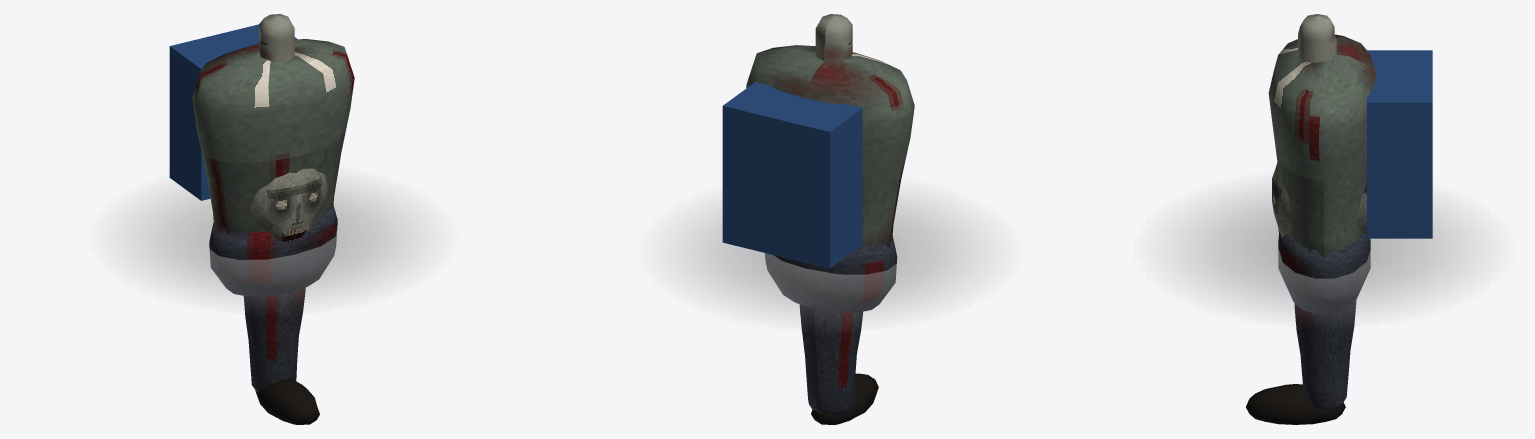
3 renders of one model, left to right at view 1: azimuth 30°, elevation 25°; view 2: azimuth 150°, elevation 25°; view 3: azimuth 270°, elevation 25°, orthographic. The views are drawn at different scales.
Parts seen in each view (by area): view 1: root__x__11, spine__x__1, core__x__0, spine__x__3, legL1__x__12, head__h__4, legL2__x__14, spine__x__2; view 2: spine__x__3, root__x__11, spine__x__1, core__x__0, legL1__x__12, spine__x__2, legL2__x__14; view 3: root__x__11, spine__x__1, spine__x__3, core__x__0, legL1__x__12, legL2__x__14, spine__x__2, head__h__4.
Boxes of the visible parts, x1=… form: root__x__11: x1=114, y1=176, x2=432, y2=305; spine__x__1: x1=192, y1=39, x2=354, y2=233; core__x__0: x1=209, y1=205, x2=337, y2=296; spine__x__3: x1=169, y1=24, x2=297, y2=200; legL1__x__12: x1=243, y1=288, x2=305, y2=391; head__h__4: x1=250, y1=168, x2=327, y2=242; legL2__x__14: x1=255, y1=378, x2=319, y2=424; spine__x__2: x1=259, y1=14, x2=294, y2=62; spine__x__3: x1=722, y1=82, x2=862, y2=268; root__x__11: x1=665, y1=189, x2=995, y2=321; spine__x__1: x1=746, y1=45, x2=914, y2=247; core__x__0: x1=765, y1=235, x2=897, y2=312; legL1__x__12: x1=799, y1=304, x2=863, y2=415; spine__x__2: x1=815, y1=14, x2=852, y2=61; legL2__x__14: x1=811, y1=373, x2=878, y2=424; root__x__11: x1=1159, y1=183, x2=1489, y2=317; spine__x__1: x1=1268, y1=34, x2=1376, y2=258; spine__x__3: x1=1367, y1=50, x2=1432, y2=238; core__x__0: x1=1278, y1=233, x2=1370, y2=314; legL1__x__12: x1=1294, y1=300, x2=1356, y2=412; legL2__x__14: x1=1246, y1=384, x2=1345, y2=424; spine__x__2: x1=1298, y1=14, x2=1336, y2=62; head__h__4: x1=1272, y1=162, x2=1366, y2=237.
Size of the model in its own units: 1.06 by 1.2 by 1.06.
7 materials, 5 textured.
